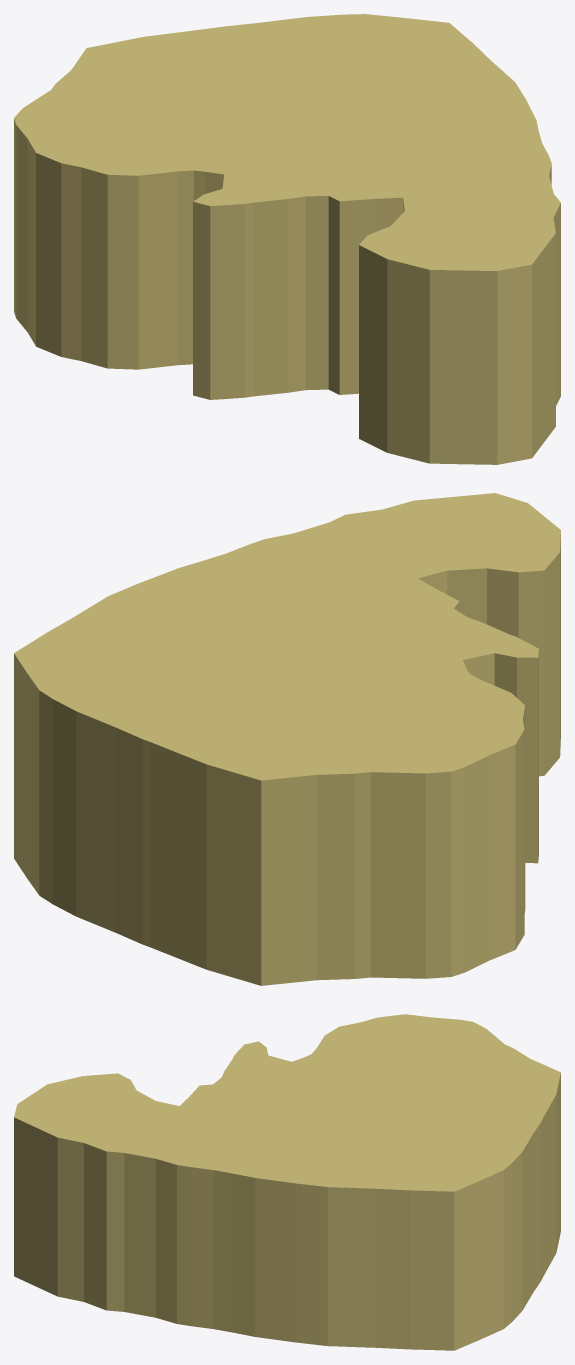
Rendered from Big_MountainRight.dae.
3 renders of one model, top to bottom at view 1: azimuth 30°, elevation 25°; view 2: azimuth 150°, elevation 25°; view 3: azimuth 270°, elevation 25°, orthographic. The views are drawn at different scales.
Parts seen in each view (by area): view 1: Object_001; view 2: Object_001; view 3: Object_001.
Boxes of the visible parts, box(x1,y1,x2,y2) form: Object_001: box(14, 14, 560, 464); Object_001: box(14, 493, 560, 985); Object_001: box(14, 1014, 560, 1350).
Size of the model in its own units: 20.77 by 27.04 by 8.67.
